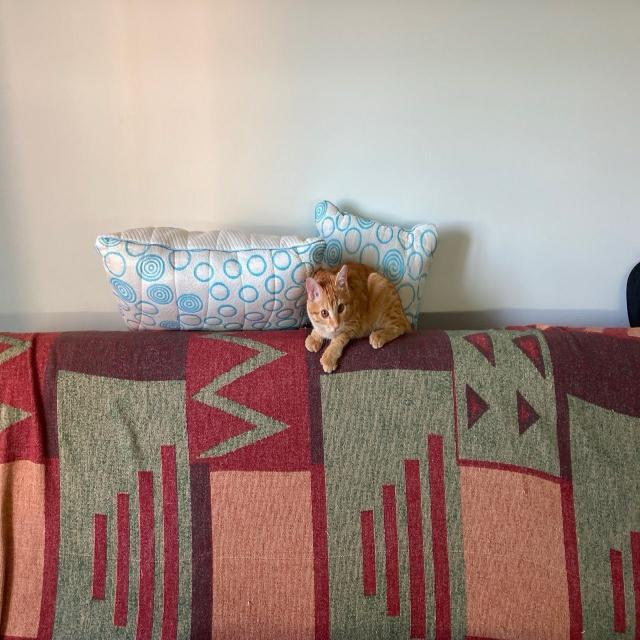red_cat: (298, 263, 419, 367)
